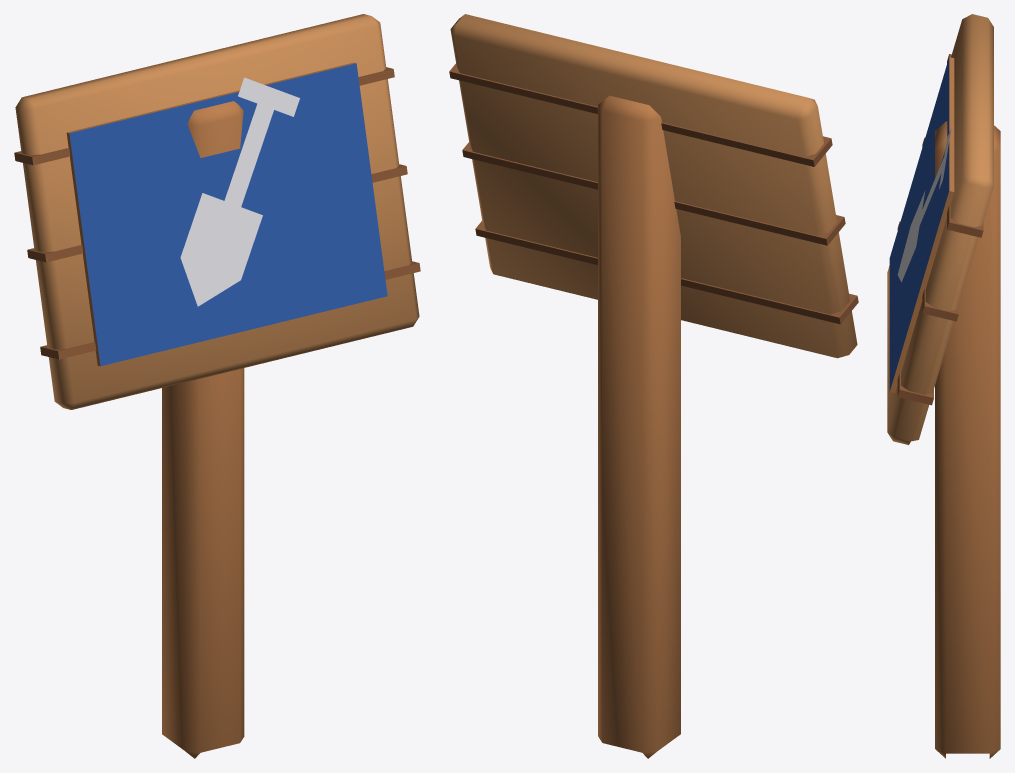
The model's file is repair_sign.glb.
The picture shows the model from 3 angles, left to right: view 1: azimuth 30°, elevation 25°; view 2: azimuth 150°, elevation 25°; view 3: azimuth 270°, elevation 25°; orthographic projection. The views are drawn at different scales.
Parts seen in each view (by area): view 1: repair_sign; view 2: repair_sign; view 3: repair_sign.
Boxes of the visible parts, <box> form: repair_sign: <box>14,14,420,758</box>; repair_sign: <box>449,14,858,758</box>; repair_sign: <box>887,14,1000,758</box>.
Size of the model in its own units: 0.73 by 1.32 by 0.2076.
Materials: 1 (1 with a texture image).
